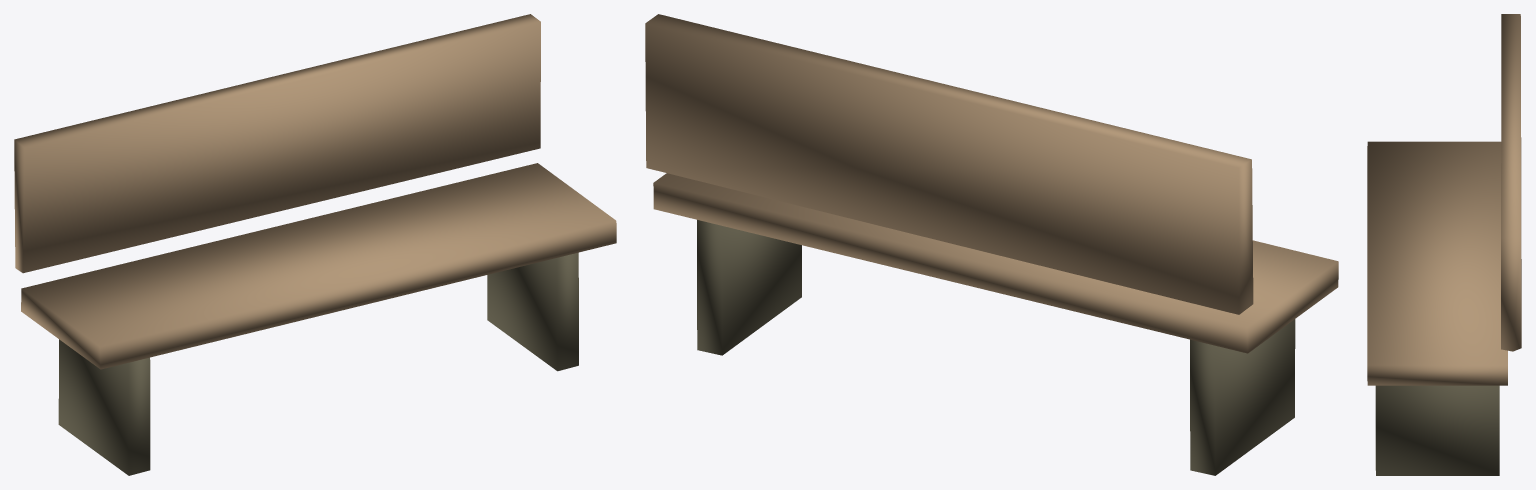
File: SM_Warmerdamm_Bench_LOD3.fbx
The picture shows the model from 3 angles, left to right: view 1: azimuth 30°, elevation 25°; view 2: azimuth 150°, elevation 25°; view 3: azimuth 270°, elevation 25°; orthographic projection. The views are drawn at different scales.
Visible parts, largest first — view 1: SM_Warmerdamm_Bench_LOD3; view 2: SM_Warmerdamm_Bench_LOD3; view 3: SM_Warmerdamm_Bench_LOD3.
Boxes of the visible parts, x1,y1,x2,y2 form: SM_Warmerdamm_Bench_LOD3: [14, 14, 616, 475]; SM_Warmerdamm_Bench_LOD3: [645, 14, 1338, 475]; SM_Warmerdamm_Bench_LOD3: [1367, 14, 1521, 475].
Bounding box in the file's own units: 1.89 × 0.9902 × 0.5484.
